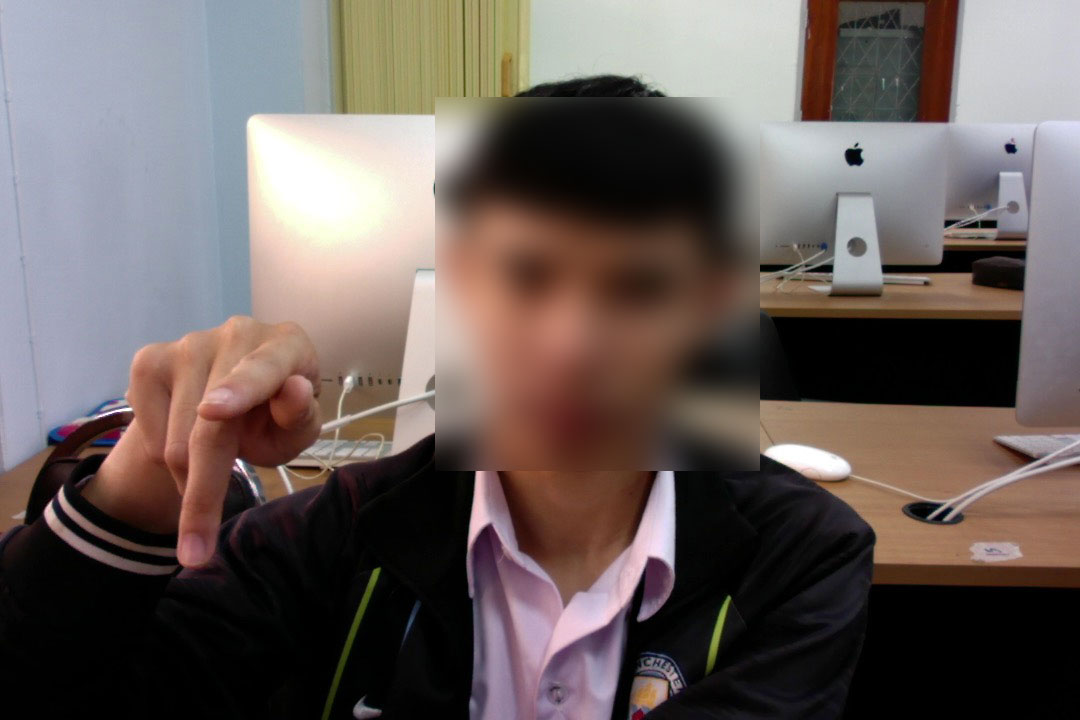por: (112, 299, 328, 570)
